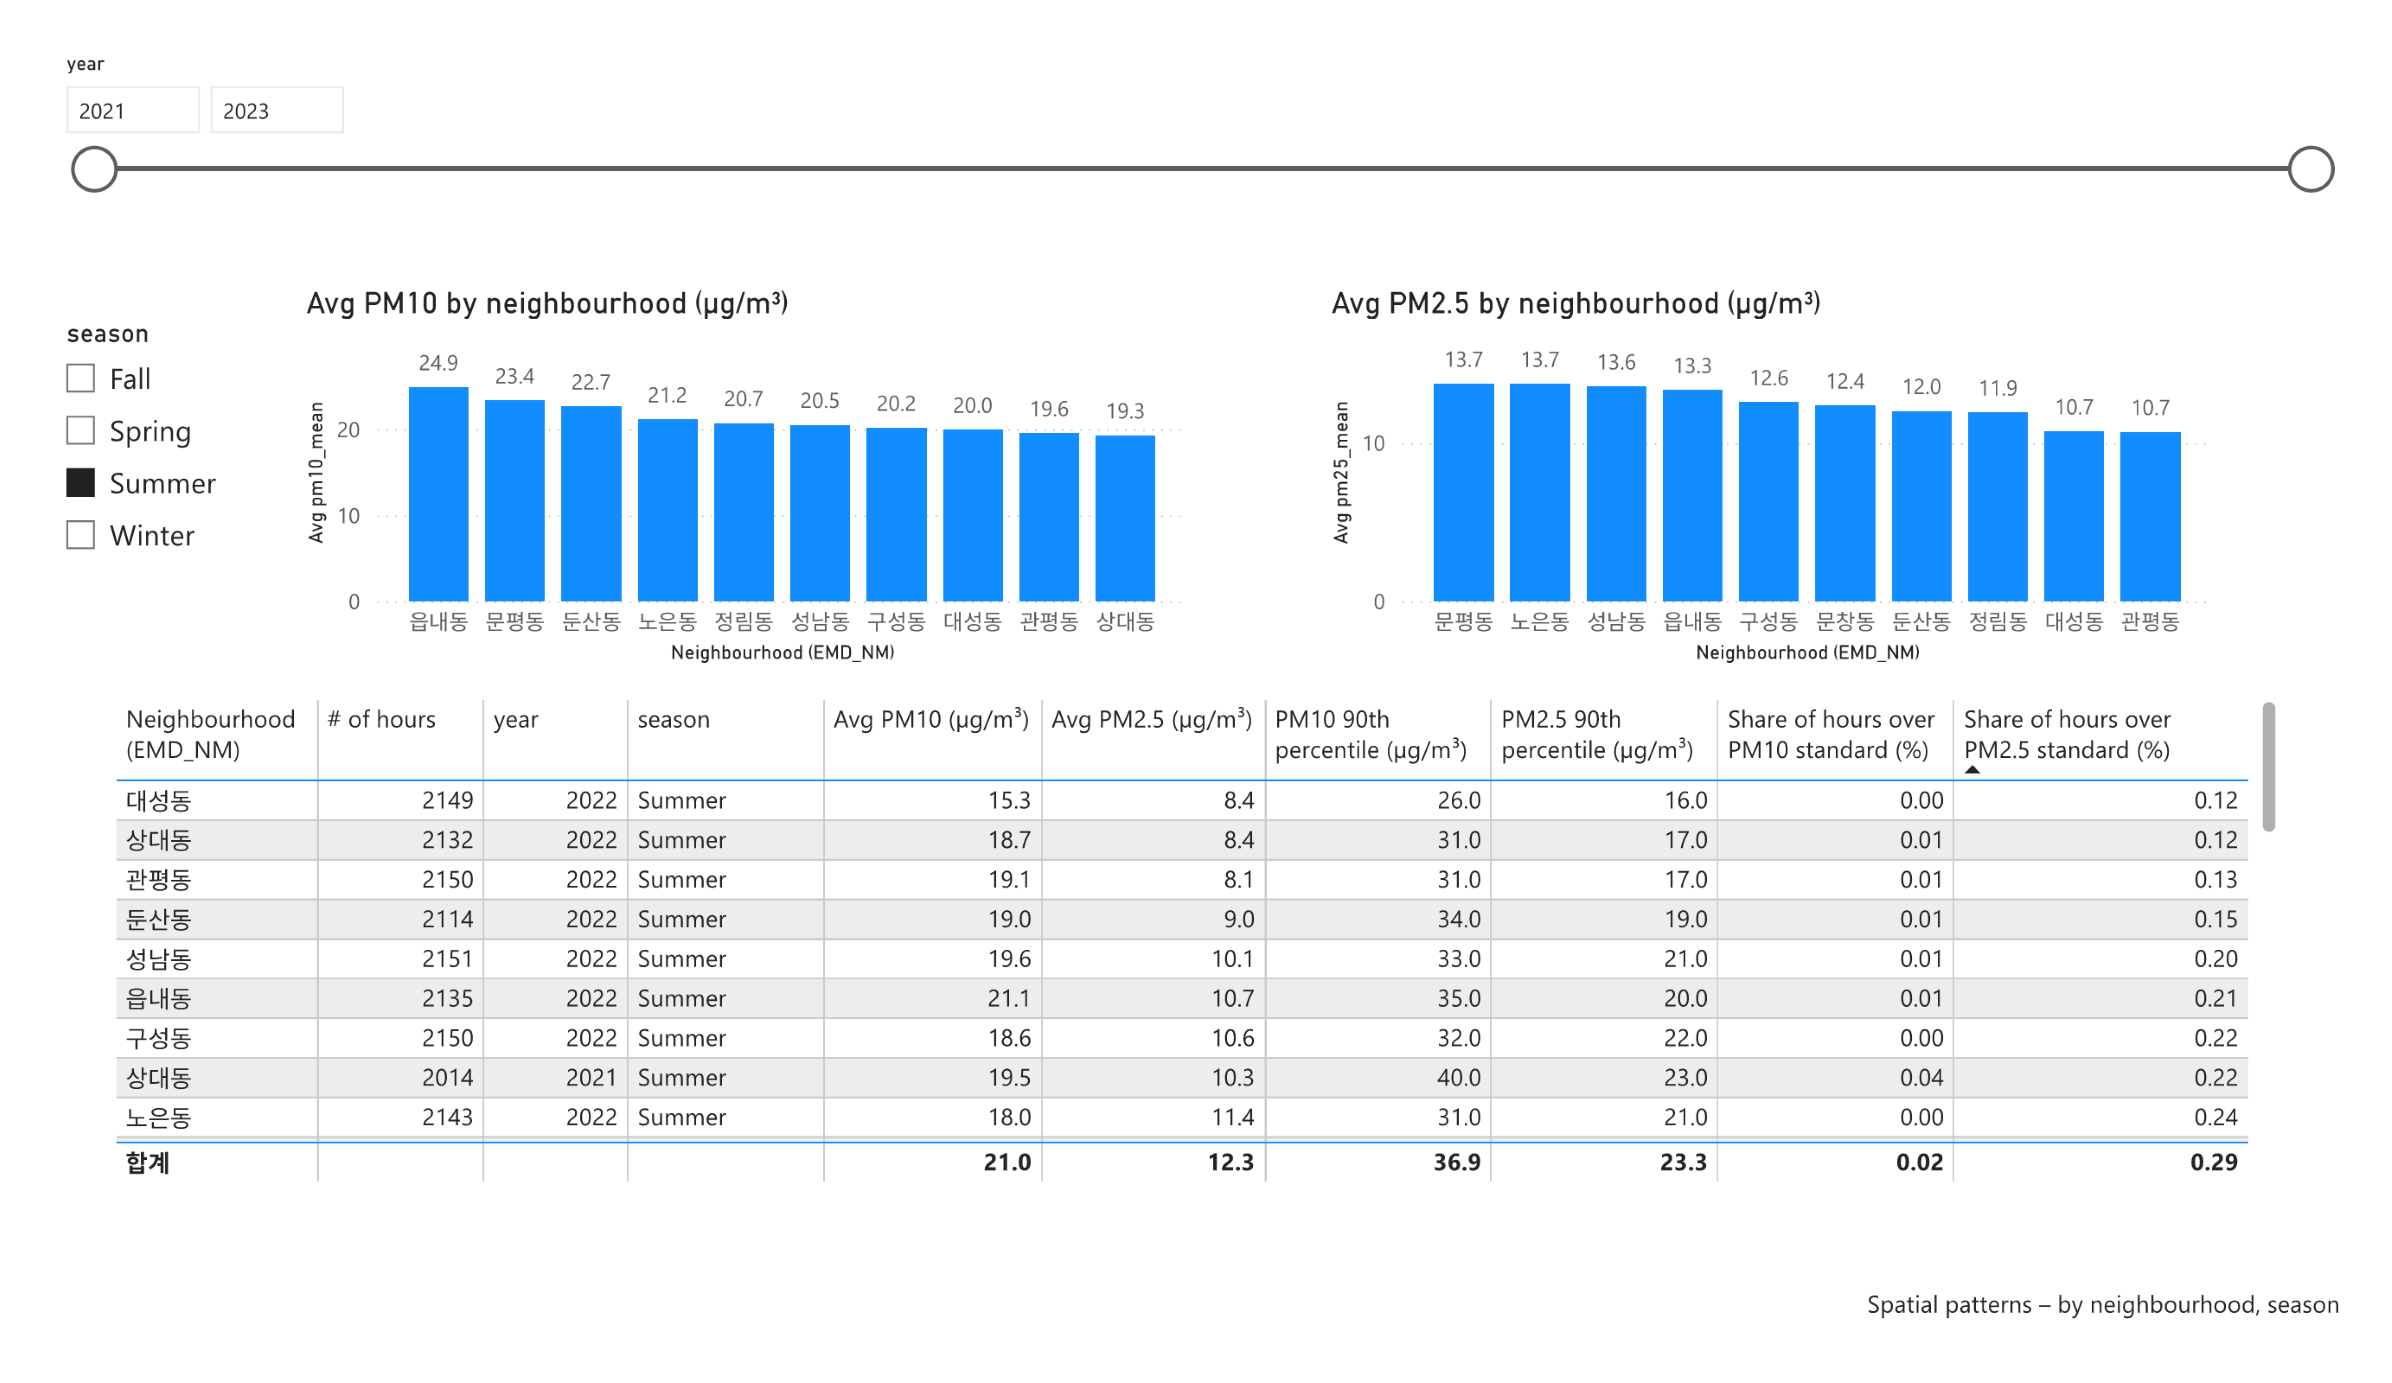

What the dashboard file says about the page in this screenshot:
{"tool":"powerbi","page":{"name":"Spatial","canvas":[1280,720],"ordinal":1},"visuals":[{"type":"slicer","fields":{"Values":["AdminStats_2021_2023.year"]},"box":[0,0,1280,126.4],"z":0},{"type":"slicer","fields":{"Values":["AdminStats_2021_2023.season_en"]},"box":[0,147.8,112.8,153.7],"z":1000},{"type":"tableEx","fields":{"Values":["AdminStats_2021_2023.EMD_NM","AdminStats_2021_2023.n_hours","AdminStats_2021_2023.year","AdminStats_2021_2023.season_en","Avg(AdminStats_2021_2023.pm10_mean)","Avg(AdminStats_2021_2023.pm25_mean)","Avg(AdminStats_2021_2023.pm10_p90)","Avg(AdminStats_2021_2023.pm25_p90)","Avg(AdminStats_2021_2023.pm10_over_kr_ratio)","Avg(AdminStats_2021_2023.pm25_over_kr_ratio)"]},"box":[35.5,360.3,1209,277],"z":2000},{"type":"clusteredColumnChart","title":"Avg PM10 by neighbourhood (µg/m³)","fields":{"Category":["AdminStats_2021_2023.EMD_NM"],"Y":["Avg(AdminStats_2021_2023.pm10_mean)"]},"box":[141,134.2,499,215],"z":3000},{"type":"clusteredColumnChart","title":"Avg PM2.5 by neighbourhood (µg/m³)","fields":{"Category":["AdminStats_2021_2023.EMD_NM"],"Y":["Avg(AdminStats_2021_2023.pm25_mean)"]},"box":[710,134.2,499,215],"z":4000},{"type":"textbox","box":[979.8,686.4,300.2,34.1],"z":5000}]}

Visuals, with their boxes in screenshot pixels (x1, y1, x2, y2), scaled from the page's 1280x720 canvas onto the 2392x1383 screenshot:
slicer - AdminStats_2021_2023.year: {"x1": 0, "y1": 0, "x2": 2391, "y2": 243}
slicer - AdminStats_2021_2023.season_en: {"x1": 0, "y1": 284, "x2": 211, "y2": 579}
tableEx - AdminStats_2021_2023.EMD_NM x AdminStats_2021_2023.n_hours: {"x1": 66, "y1": 692, "x2": 2326, "y2": 1224}
"Avg PM10 by neighbourhood (µg/m³)" clusteredColumnChart: {"x1": 263, "y1": 258, "x2": 1196, "y2": 671}
"Avg PM2.5 by neighbourhood (µg/m³)" clusteredColumnChart: {"x1": 1327, "y1": 258, "x2": 2259, "y2": 671}
textbox: {"x1": 1831, "y1": 1318, "x2": 2391, "y2": 1382}
